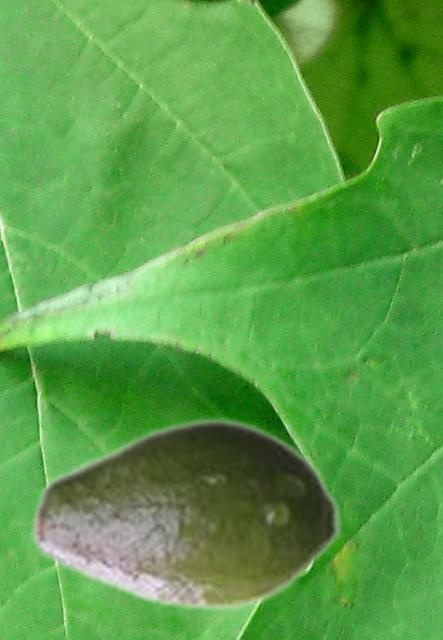avocado: (30, 416, 342, 612)
